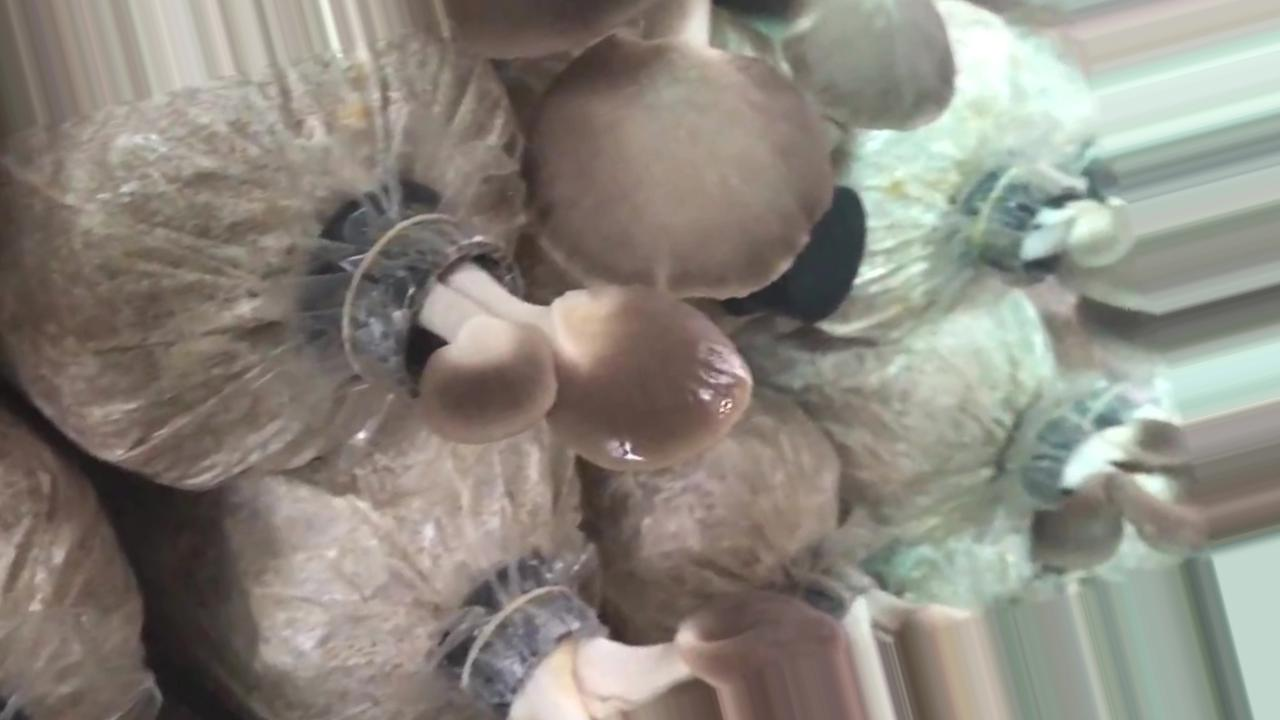nam: (448, 1, 956, 306), (342, 203, 757, 474), (471, 585, 864, 720), (1018, 387, 1280, 574), (788, 564, 1007, 720), (981, 156, 1136, 289)
